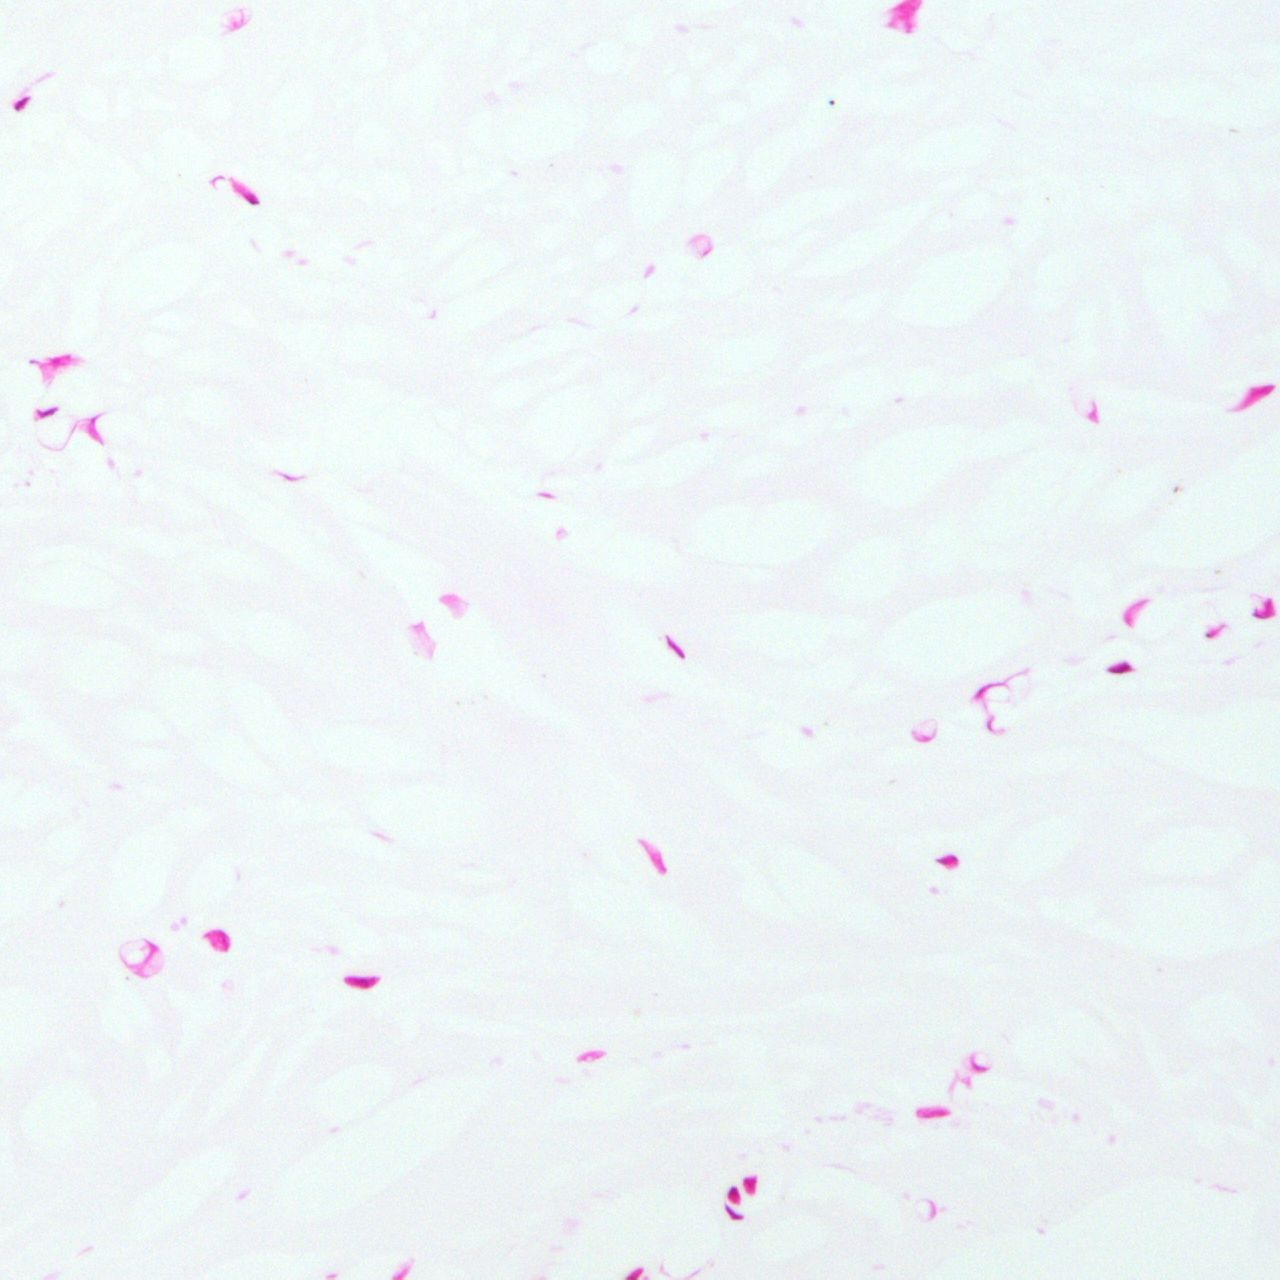nucleus-FG: (1227, 373, 1279, 416), (638, 831, 669, 876), (225, 173, 264, 207), (662, 631, 687, 661), (33, 399, 61, 421), (204, 928, 229, 952), (8, 89, 32, 113), (342, 975, 380, 989), (720, 1203, 744, 1224), (1253, 598, 1275, 618), (724, 1185, 744, 1207), (917, 1107, 949, 1118), (1107, 660, 1132, 673), (743, 1175, 756, 1194), (937, 855, 958, 866)
